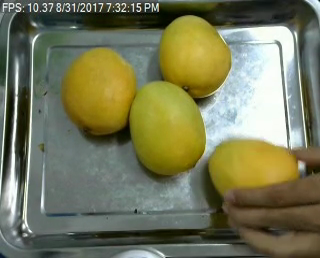Mango: (130, 81, 206, 174), (60, 45, 136, 134), (209, 141, 300, 209), (159, 15, 231, 97)
